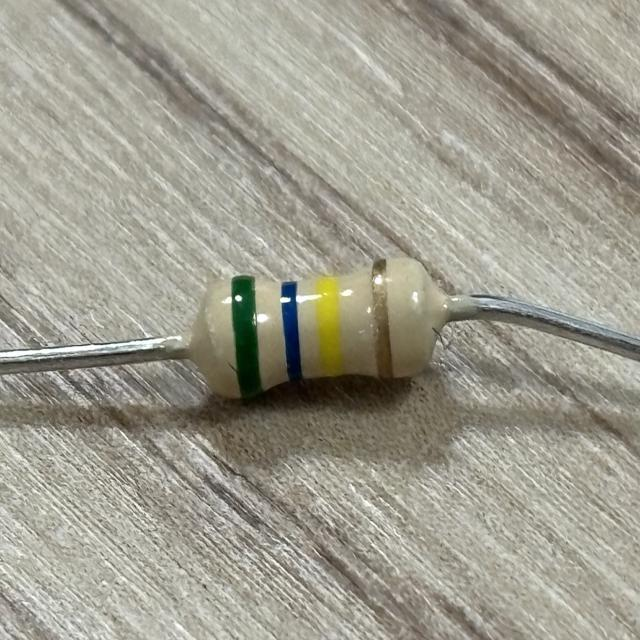resistor: (191, 246, 444, 408)
